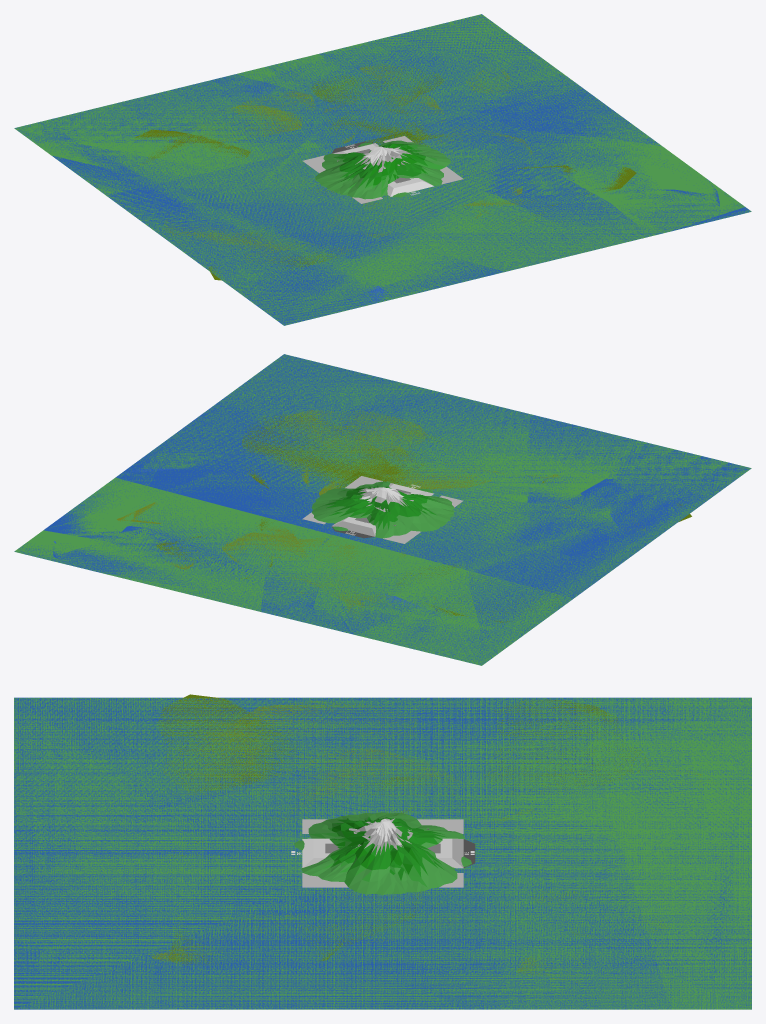
File: middle_east.glb
3 views of the same model, one above another, from view 1: azimuth 30°, elevation 25°; view 2: azimuth 150°, elevation 25°; view 3: azimuth 270°, elevation 25° (orthographic). The views are drawn at different scales.
Visible parts, largest first — view 1: middle_east_156_lod0, middle_east_109_lod0, middle_east_000_lod0, middle_east_136_lod0, middle_east_132_lod0, middle_east_129_lod0, middle_east_130_lod0, middle_east_135_lod0, middle_east_143_lod0, middle_east_131_lod0, middle_east_137_lod0, middle_east_147_lod0 (+19 smaller); view 2: middle_east_132_lod0, middle_east_000_lod0, middle_east_149_lod0, middle_east_109_lod0, middle_east_129_lod0, middle_east_151_lod0, middle_east_135_lod0, middle_east_128_lod0, middle_east_152_lod0, middle_east_130_lod0, middle_east_141_lod0, middle_east_157_lod0 (+22 smaller); view 3: middle_east_000_lod0, middle_east_109_lod0, middle_east_128_lod0, middle_east_155_lod0, middle_east_129_lod0, middle_east_144_lod0, middle_east_131_lod0, middle_east_137_lod0, middle_east_135_lod0, middle_east_130_lod0, middle_east_132_lod0, middle_east_142_lod0 (+27 smaller).
Part boxes in pixels (x1,y1,x2,y2): middle_east_156_lod0: (52,28,740,304); middle_east_109_lod0: (15,14,748,325); middle_east_000_lod0: (14,15,750,325); middle_east_136_lod0: (19,15,728,323); middle_east_132_lod0: (17,17,737,322); middle_east_129_lod0: (15,14,746,323); middle_east_130_lod0: (19,15,745,324); middle_east_135_lod0: (23,21,749,324); middle_east_143_lod0: (30,17,731,318); middle_east_131_lod0: (18,15,737,320); middle_east_137_lod0: (24,18,736,319); middle_east_147_lod0: (36,38,650,301); middle_east_132_lod0: (19,355,739,663); middle_east_000_lod0: (15,354,751,665); middle_east_149_lod0: (105,364,734,652); middle_east_109_lod0: (14,354,749,664); middle_east_129_lod0: (22,354,744,664); middle_east_151_lod0: (158,362,736,647); middle_east_135_lod0: (21,360,747,660); middle_east_128_lod0: (17,356,746,664); middle_east_152_lod0: (47,365,713,649); middle_east_130_lod0: (20,356,746,664); middle_east_141_lod0: (17,356,598,657); middle_east_157_lod0: (222,358,706,633); middle_east_000_lod0: (14,697,751,1009); middle_east_109_lod0: (14,697,751,1009); middle_east_128_lod0: (14,697,751,1009); middle_east_155_lod0: (14,698,751,998); middle_east_129_lod0: (14,697,751,1009); middle_east_144_lod0: (14,698,751,1009); middle_east_131_lod0: (14,698,751,1009); middle_east_137_lod0: (21,698,751,1009); middle_east_135_lod0: (14,698,751,1009); middle_east_130_lod0: (14,697,751,1009); middle_east_132_lod0: (14,698,751,1009); middle_east_142_lod0: (14,698,751,1008).
Size of what is drawn, in the model's own units: 4139 by 193 by 4096.
